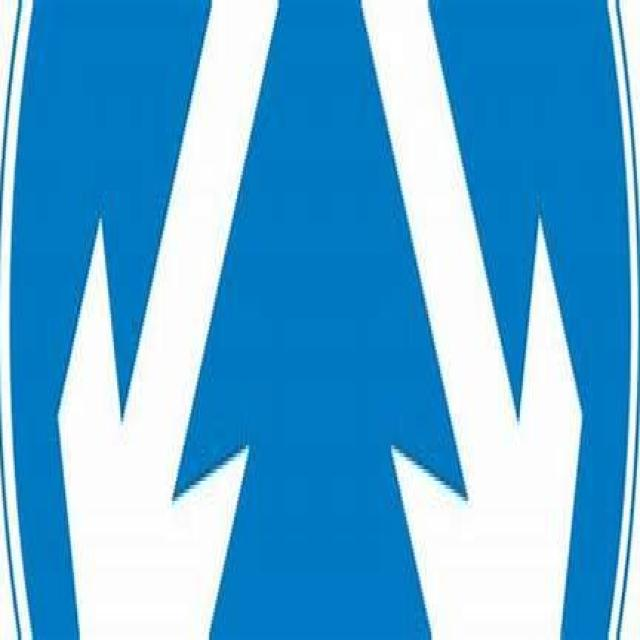no_overtaking: (10, 0, 630, 636)
